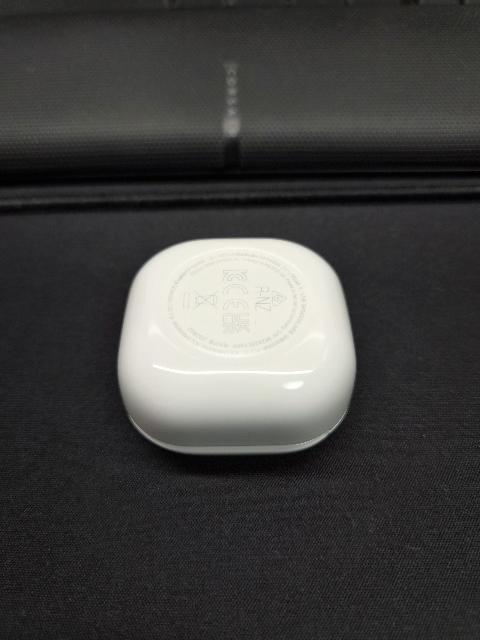earphone_case: (117, 238, 356, 456)
